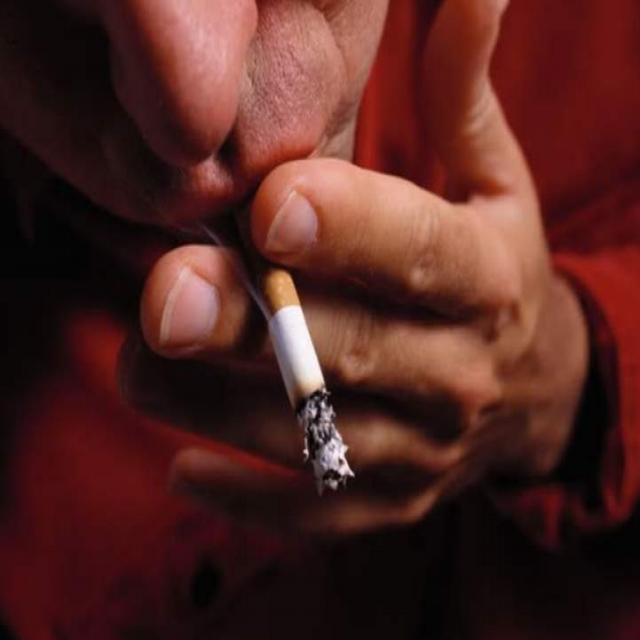smoke: (262, 265, 357, 501)
